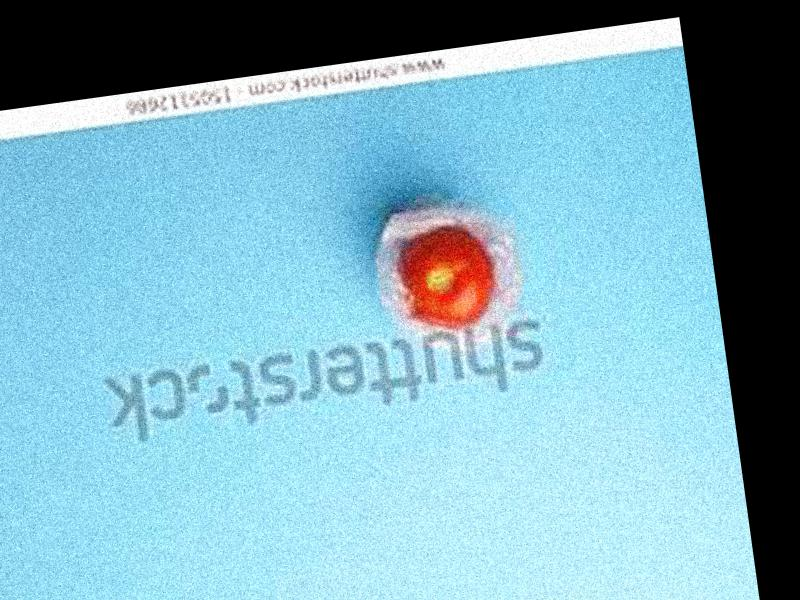Tomato: (392, 223, 497, 334)
